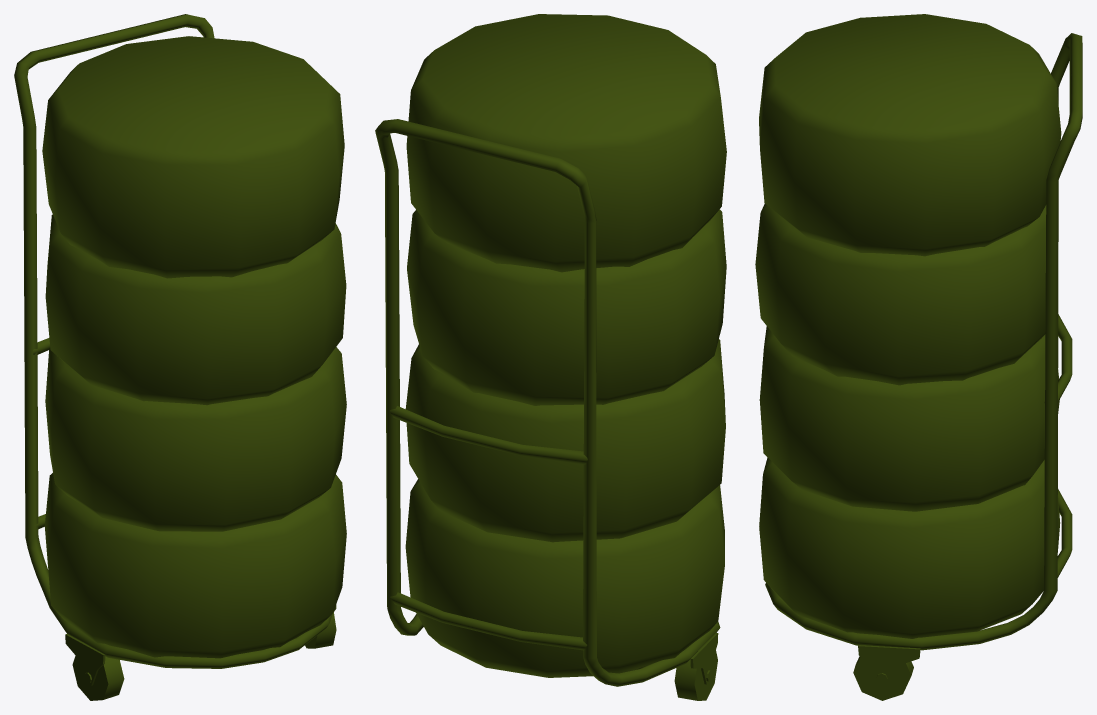
The model's file is Tire_warmers02_M.fbx.
3 renders of one model, left to right at view 1: azimuth 30°, elevation 25°; view 2: azimuth 150°, elevation 25°; view 3: azimuth 270°, elevation 25°, orthographic. The views are drawn at different scales.
Visible parts, largest first — view 1: Tire_warmers02_tire_4, Tire_warmers02_tire_2, Tire_warmers02_tire_1, Tire_warmers02_tire_3, Tire_warmers02_troll, Tire_warmers02_W2; view 2: Tire_warmers02_tire_4, Tire_warmers02_tire_3, Tire_warmers02_tire_2, Tire_warmers02_tire_1, Tire_warmers02_troll, Tire_warmers02_W2; view 3: Tire_warmers02_tire_4, Tire_warmers02_tire_3, Tire_warmers02_tire_2, Tire_warmers02_tire_1, Tire_warmers02_troll, Tire_warmers02_W1.
Part boxes in pixels (x1,y1,x2,y2): Tire_warmers02_tire_4: (42,36,344,278); Tire_warmers02_tire_2: (45,347,346,531); Tire_warmers02_tire_1: (44,473,346,658); Tire_warmers02_tire_3: (45,214,346,405); Tire_warmers02_troll: (14,14,332,668); Tire_warmers02_W2: (65,634,124,700); Tire_warmers02_tire_4: (406,14,726,272); Tire_warmers02_tire_3: (407,209,726,405); Tire_warmers02_tire_2: (405,339,725,542); Tire_warmers02_tire_1: (405,479,724,677); Tire_warmers02_troll: (375,119,720,686); Tire_warmers02_W2: (674,632,718,700); Tire_warmers02_tire_4: (759,14,1061,256); Tire_warmers02_tire_3: (755,203,1046,385); Tire_warmers02_tire_2: (759,326,1059,511); Tire_warmers02_tire_1: (759,457,1060,638); Tire_warmers02_troll: (765,33,1082,650); Tire_warmers02_W1: (853,645,920,700).
Size of the model in its own units: 0.2305 by 0.4786 by 0.2479.
